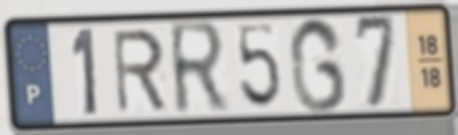1: (68, 25, 100, 120)
5: (234, 21, 285, 112)
7: (352, 13, 399, 113)
G: (287, 13, 350, 116)
R: (165, 17, 231, 121), (109, 26, 170, 117)
